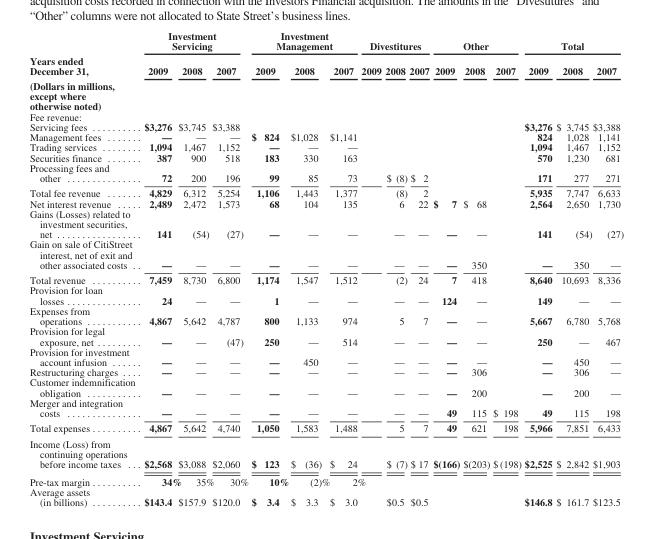table: (28, 29, 623, 507)
table column: (28, 29, 139, 507), (139, 29, 179, 507), (249, 29, 289, 507), (289, 29, 329, 507), (553, 29, 591, 507), (212, 29, 249, 507), (179, 29, 212, 507), (329, 29, 362, 507), (490, 29, 522, 507), (591, 29, 623, 507), (522, 29, 553, 507), (430, 29, 460, 507), (460, 29, 490, 507), (382, 29, 407, 507), (407, 29, 430, 507), (362, 29, 382, 507)
table column header: (28, 29, 623, 78)
table projected row header: (28, 78, 623, 111), (28, 111, 623, 121)
table row: (28, 435, 623, 472), (28, 78, 623, 111), (28, 238, 623, 271), (28, 208, 623, 238), (28, 29, 623, 57), (28, 162, 623, 185), (28, 397, 623, 420), (28, 57, 623, 78), (28, 284, 623, 305), (28, 325, 623, 346), (28, 376, 623, 397), (28, 486, 623, 507), (28, 305, 623, 325), (28, 346, 623, 366), (28, 420, 623, 435), (28, 472, 623, 486), (28, 271, 623, 284), (28, 185, 623, 197), (28, 151, 623, 162), (28, 197, 623, 208), (28, 111, 623, 121), (28, 121, 623, 131), (28, 131, 623, 141), (28, 141, 623, 151), (28, 366, 623, 376)
table spanning cell: (28, 29, 139, 78), (249, 29, 362, 57), (139, 29, 249, 57), (522, 29, 623, 57), (430, 29, 522, 57), (362, 29, 430, 57)
